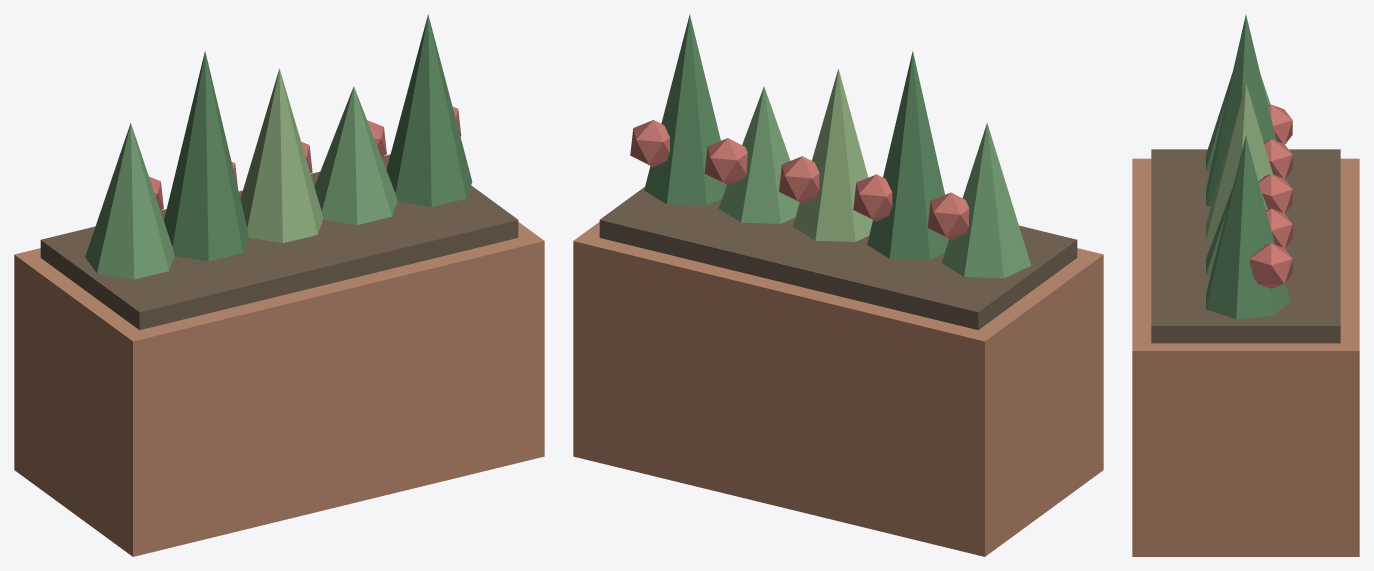
File: pla_pimenta.glb
The picture shows the model from 3 angles, left to right: view 1: azimuth 30°, elevation 25°; view 2: azimuth 150°, elevation 25°; view 3: azimuth 270°, elevation 25°; orthographic projection. The views are drawn at different scales.
Visible parts, largest first — view 1: PLA_PIMENTA_v01; view 2: PLA_PIMENTA_v01; view 3: PLA_PIMENTA_v01.
Boxes of the visible parts, x1,y1,x2,y2 form: PLA_PIMENTA_v01: [14, 14, 544, 556]; PLA_PIMENTA_v01: [573, 14, 1103, 556]; PLA_PIMENTA_v01: [1132, 15, 1359, 556].
Size of the model in its own units: 0.36 by 0.36 by 0.18.
